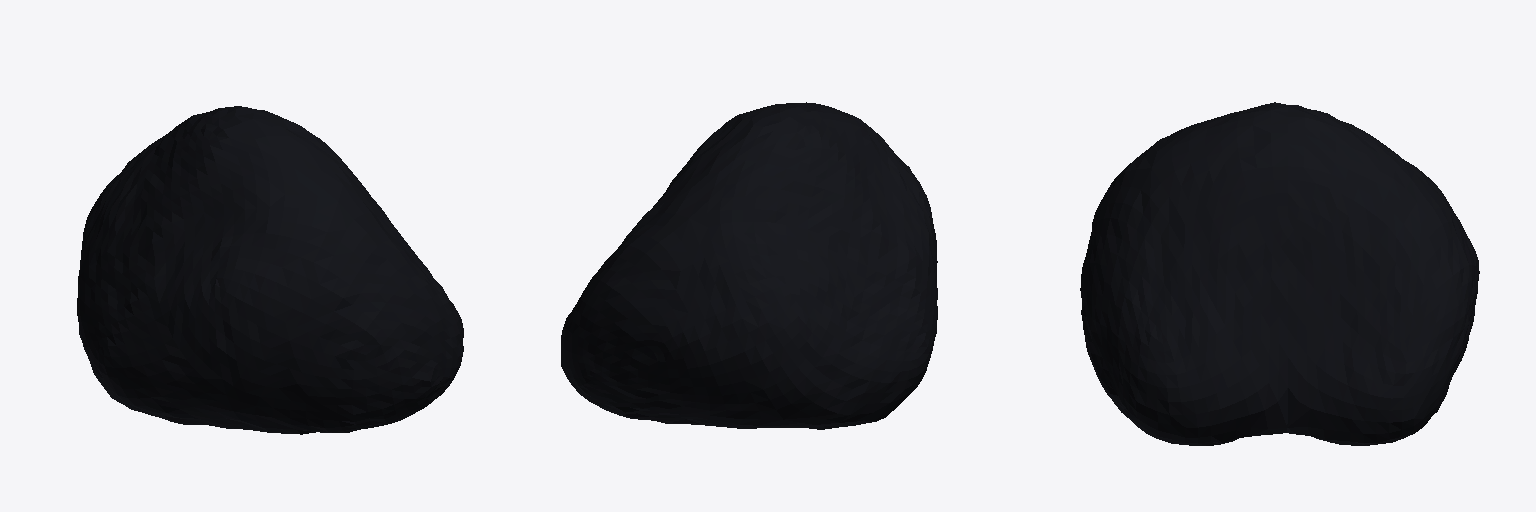
The model's file is rock.obj.
3 views of the same model, side by side, from view 1: azimuth 30°, elevation 25°; view 2: azimuth 150°, elevation 25°; view 3: azimuth 270°, elevation 25° (orthographic).
Size of the model in its own units: 0.9571 by 0.8421 by 1.07.